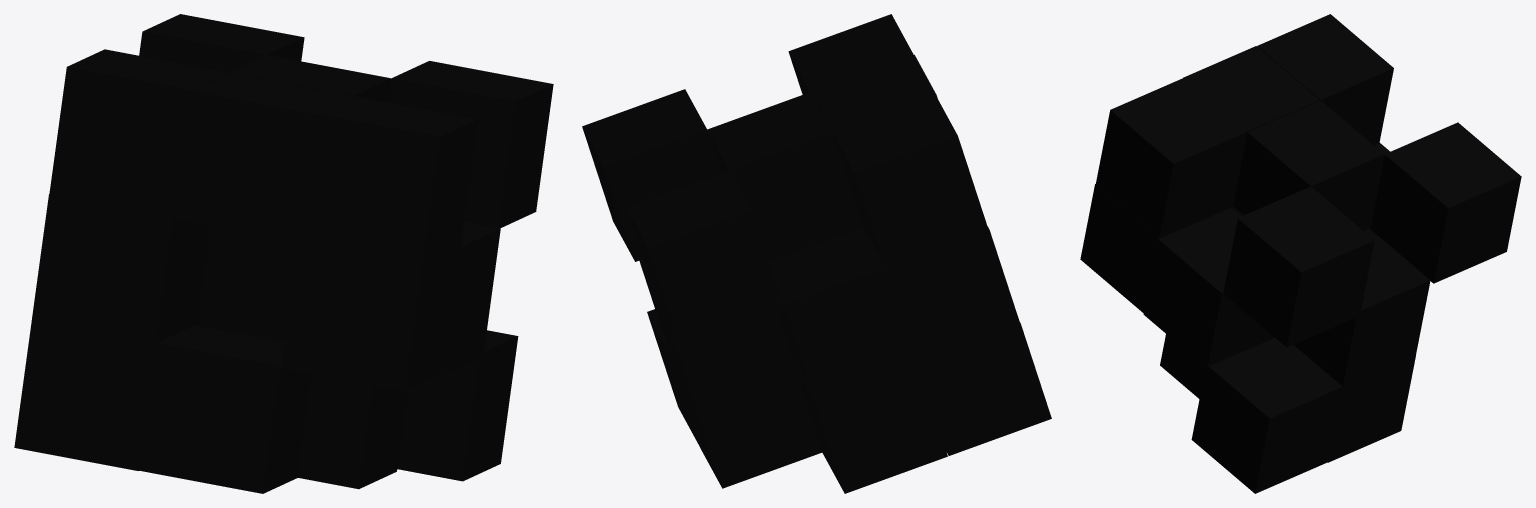
The picture shows the model from 3 angles, left to right: view 1: azimuth 30°, elevation 25°; view 2: azimuth 150°, elevation 25°; view 3: azimuth 270°, elevation 25°; orthographic projection. The views are drawn at different scales.
Visible parts, largest first — view 1: node_id55, node_id48, node_id42, node_id45, node_id39, node_id52, node_id32, node_id58, node_id10, node_id22, node_id16, node_id61 (+2 smaller); view 2: node_id61, node_id52, node_id35, node_id64, node_id26, node_id7, node_id58, node_id32, node_id45, node_id13, node_id55, node_id39 (+1 smaller); view 3: node_id58, node_id61, node_id55, node_id10, node_id64, node_id19, node_id13, node_id52, node_id39, node_id42, node_id7, node_id22.
Part boxes in pixels (<box>): node_id55: <box>298,96,477,263</box>; node_id48: <box>139,325,310,493</box>; node_id42: <box>281,240,460,391</box>; node_id45: <box>32,193,207,343</box>; node_id39: <box>173,73,352,241</box>; node_id52: <box>49,49,228,217</box>; node_id32: <box>14,320,156,470</box>; node_id58: <box>388,61,553,228</box>; node_id10: <box>397,330,518,481</box>; node_id22: <box>252,336,407,489</box>; node_id16: <box>197,225,298,341</box>; node_id61: <box>139,14,304,72</box>; node_id61: <box>626,170,782,342</box>; node_id52: <box>833,95,988,267</box>; node_id35: <box>768,227,917,399</box>; node_id64: <box>707,92,862,261</box>; node_id26: <box>792,359,947,493</box>; node_id7: <box>669,353,822,488</box>; node_id58: <box>582,89,721,261</box>; node_id32: <box>917,322,1051,455</box>; node_id45: <box>887,226,1020,361</box>; node_id13: <box>639,257,792,393</box>; node_id55: <box>788,14,913,96</box>; node_id39: <box>811,54,937,221</box>; node_id58: <box>1223,186,1374,347</box>; node_id61: <box>1370,122,1521,283</box>; node_id55: <box>1095,78,1246,238</box>; node_id10: <box>1191,338,1342,493</box>; node_id64: <box>1233,100,1384,230</box>; node_id19: <box>1143,207,1274,368</box>; node_id13: <box>1294,228,1430,386</box>; node_id52: <box>1257,14,1393,145</box>; node_id39: <box>1183,46,1319,205</box>; node_id42: <box>1080,184,1158,313</box>; node_id7: <box>1328,355,1415,462</box>; node_id22: <box>1160,334,1205,398</box>.
Bounding box in the file's own units: 0.512 × 0.4039 × 0.4754.
19 materials, 19 textured.
